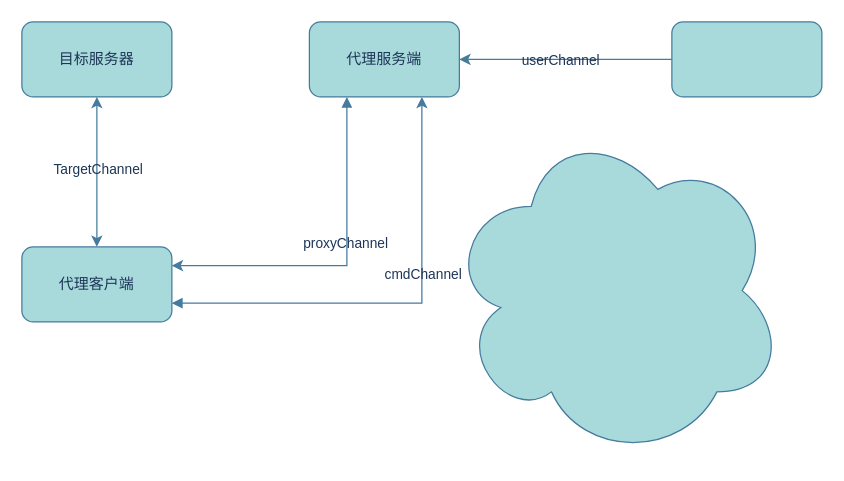
The diagram is 844 pixels wide and 481 high, and some of its shapes have lost their labels. The shapes that lost their labels are listed below. From the top down, each one's centre as x and y in pixels, then its label:
At point 746,59: "用户".
At point 615,290: "1. proxyChannel 负责传输目标服务器数据包。 2. cmdChannel 仅传输操作指令数据包。".
